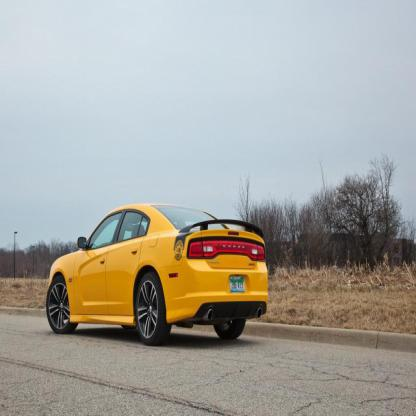Vehicle: (46, 201, 271, 350)
